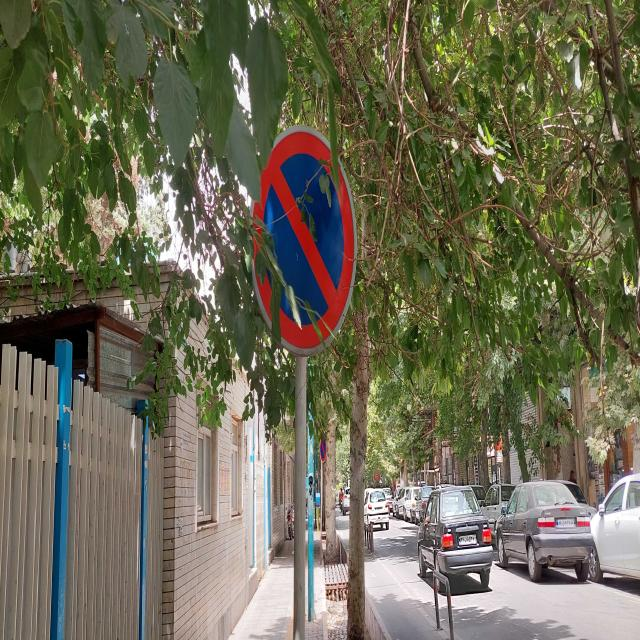forb_stopping: (248, 119, 358, 359)
